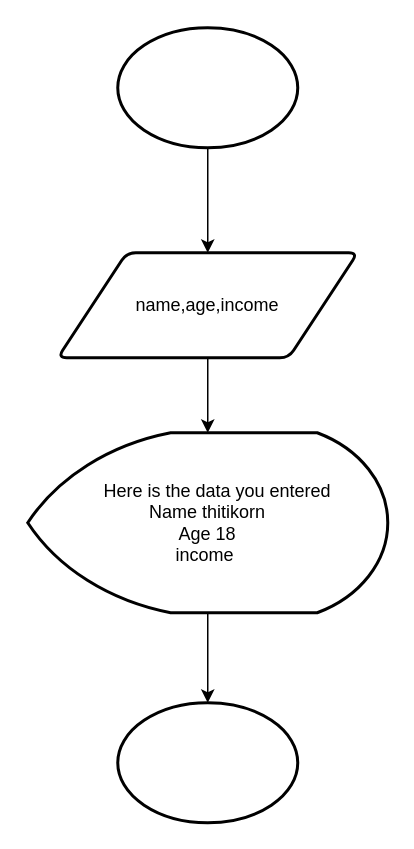
The diagram is 414 pixels wide and 849 high, and some of its shapes have lost their labels. Here are the shapes that lost their labels. From the top down, the centre of each, then its label:
the point at 207,87: Start
the point at 207,762: End
